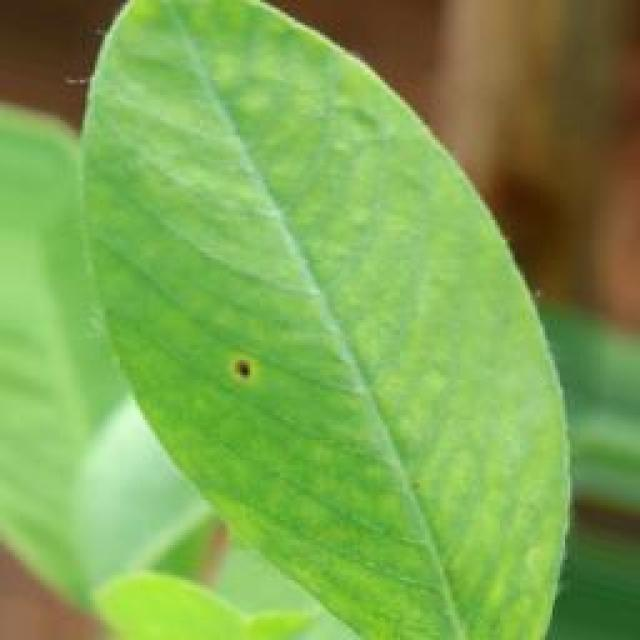Sigatoka: (214, 337, 268, 390)
